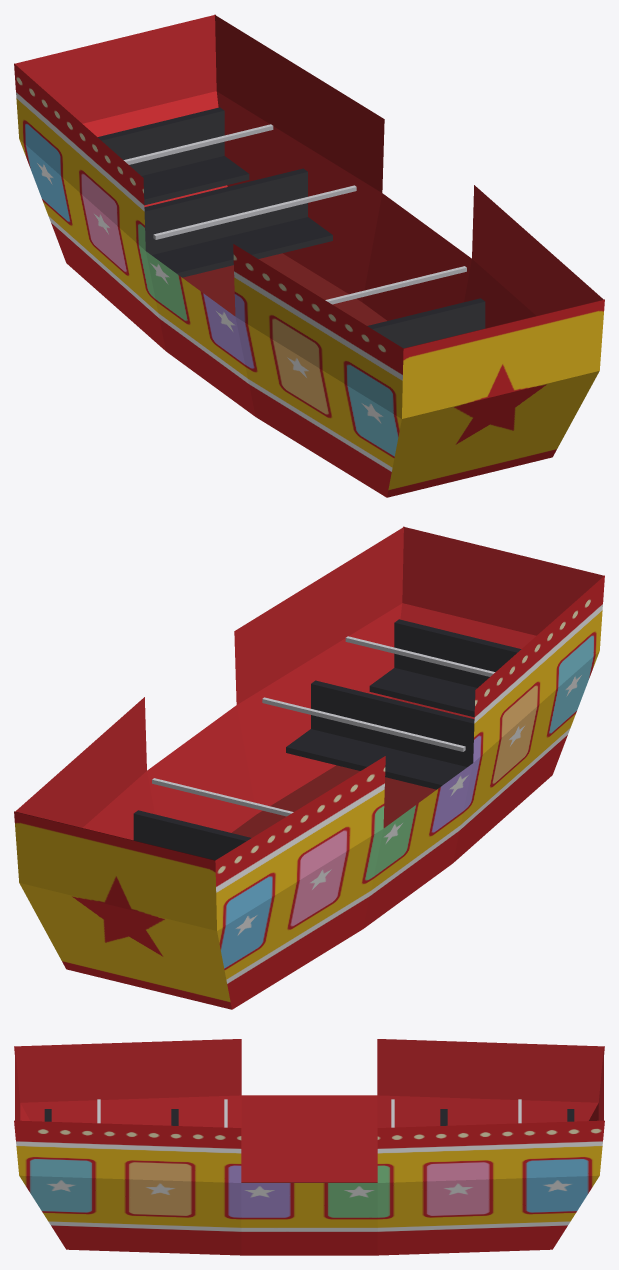
File: 09_MiniViking_Tex.glb
3 views of the same model, one above another, from view 1: azimuth 30°, elevation 25°; view 2: azimuth 150°, elevation 25°; view 3: azimuth 270°, elevation 25° (orthographic). The views are drawn at different scales.
Parts seen in each view (by area): view 1: 09_MiniViking; view 2: 09_MiniViking; view 3: 09_MiniViking.
Boxes of the visible parts, bbox=[...] form: 09_MiniViking: bbox=[14, 14, 604, 497]; 09_MiniViking: bbox=[14, 526, 604, 1009]; 09_MiniViking: bbox=[14, 1039, 604, 1255].
Bounding box in the file's own units: 2.4 × 1.7 × 6.7.
Materials: 1 (1 with a texture image).
